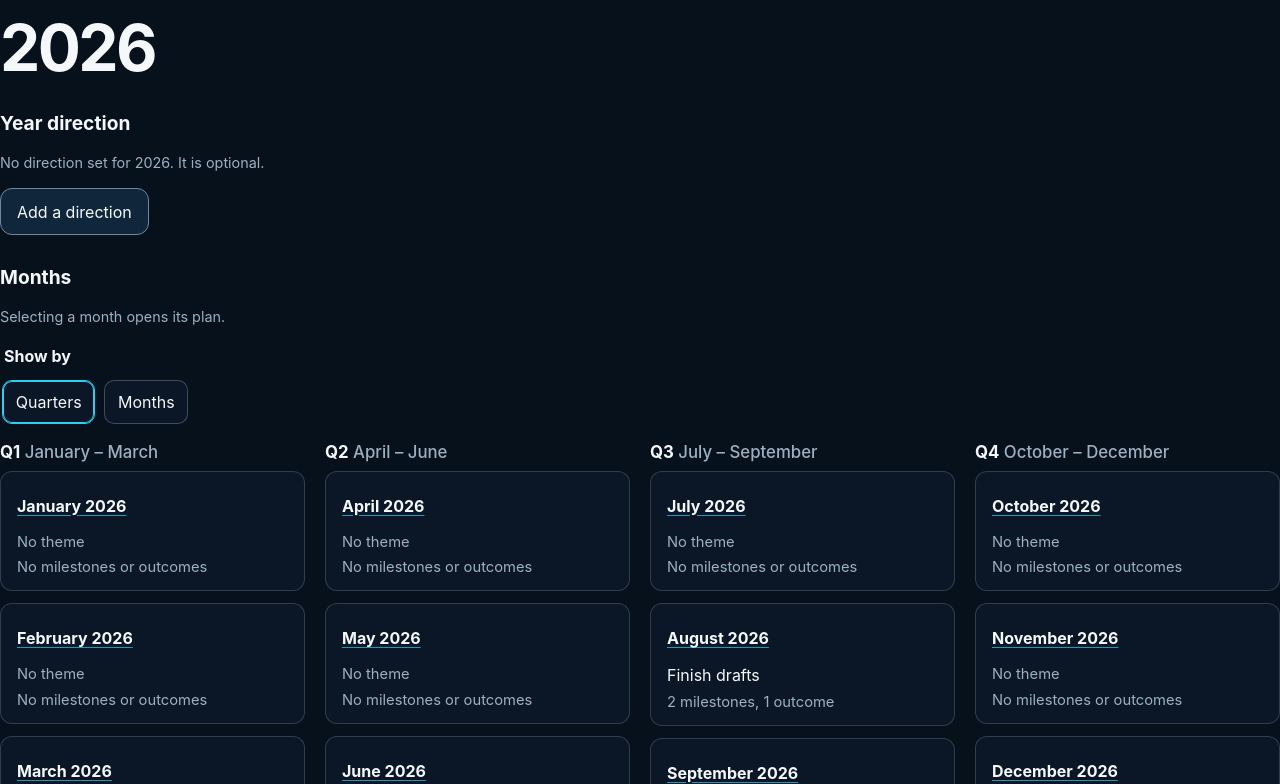
Year horizon › switches to twelve months and keeps the choice in the URL and locally
Click the radio button labelled "Months" at (146, 402), box left=104, top=380, right=188, bottom=424
(page scrolled)
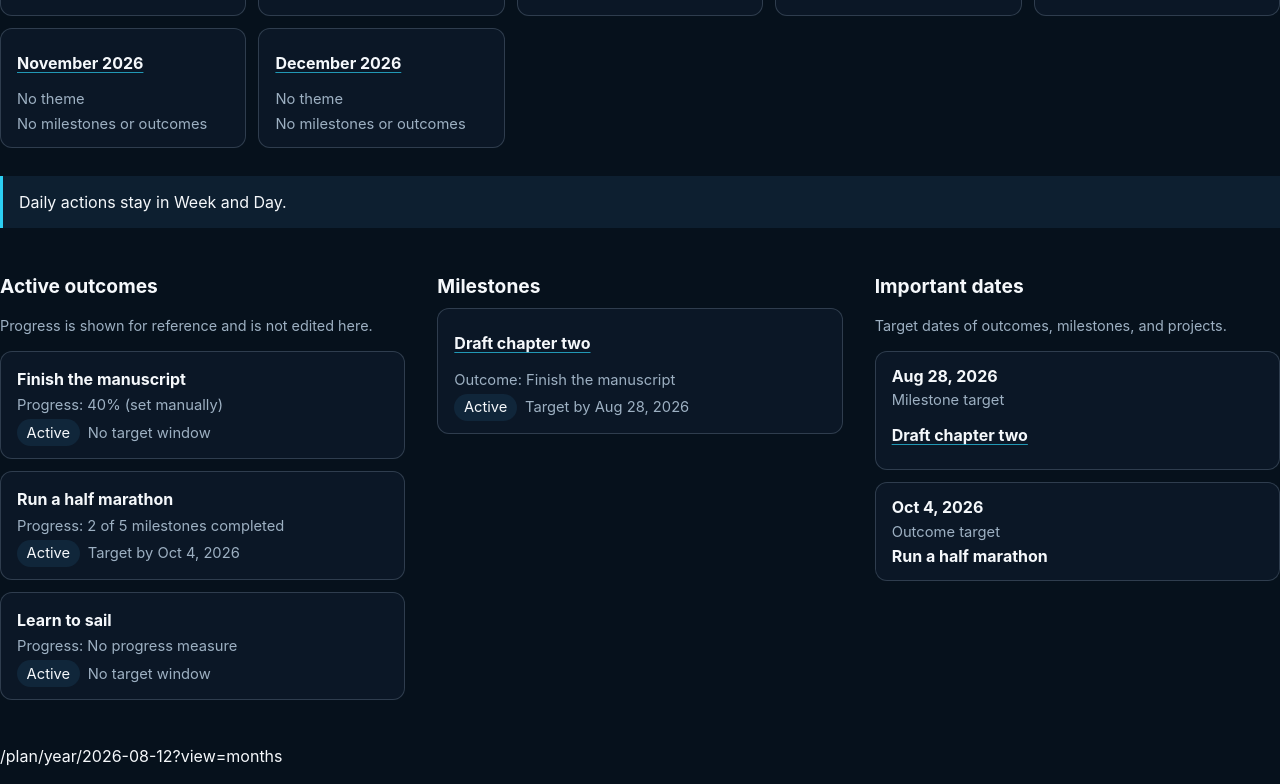
Check: the text with test id "location" reads "/plan/year/2026-08-12?view=months", box left=0, top=746, right=282, bottom=766
